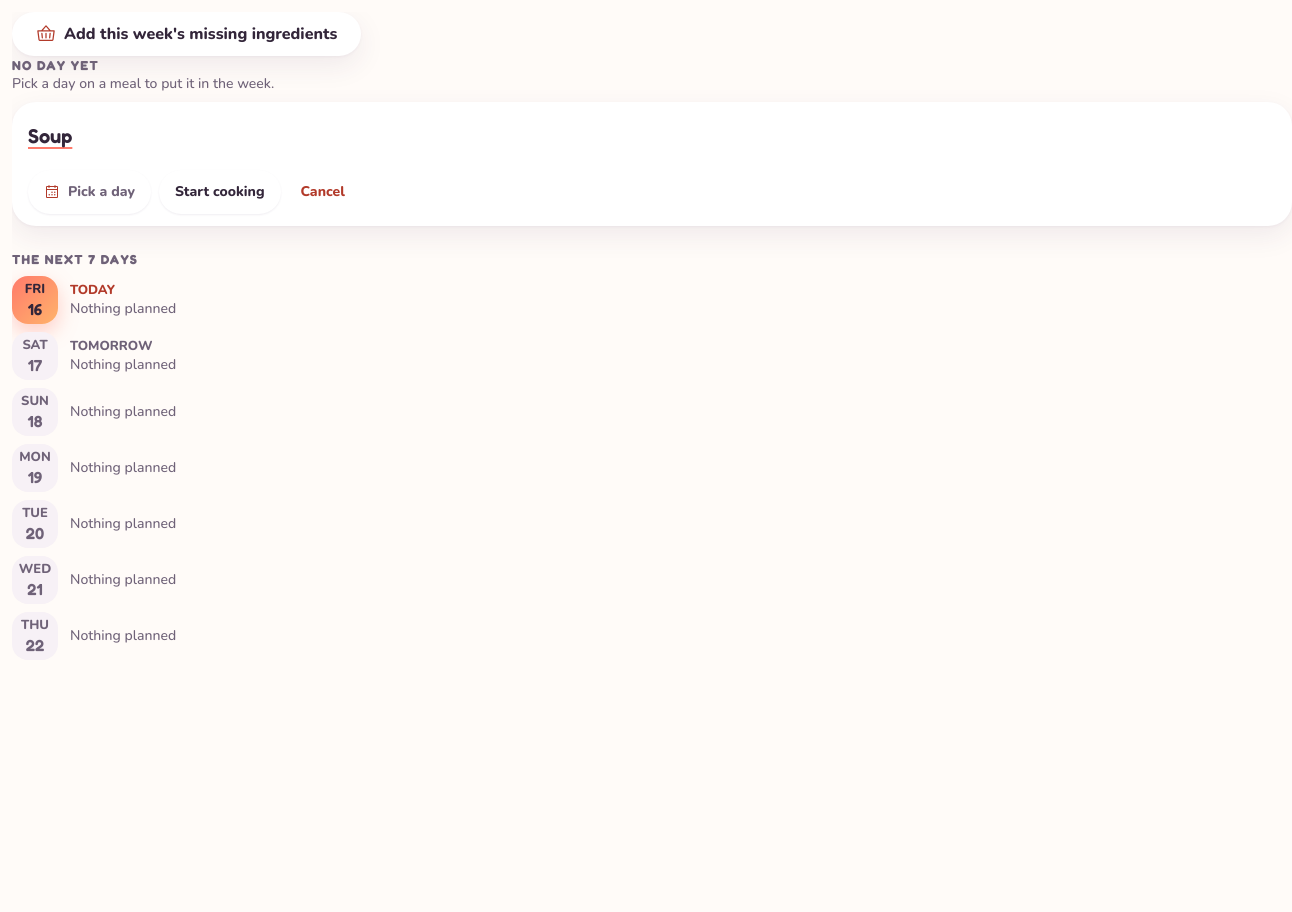
Test case: day control › offers only the plan window (yesterday to 3 weeks ahead) plus No day
Click the button with aria-label "Pick a day for Soup": point(89, 192) [28,170,151,214]
(page scrolled)
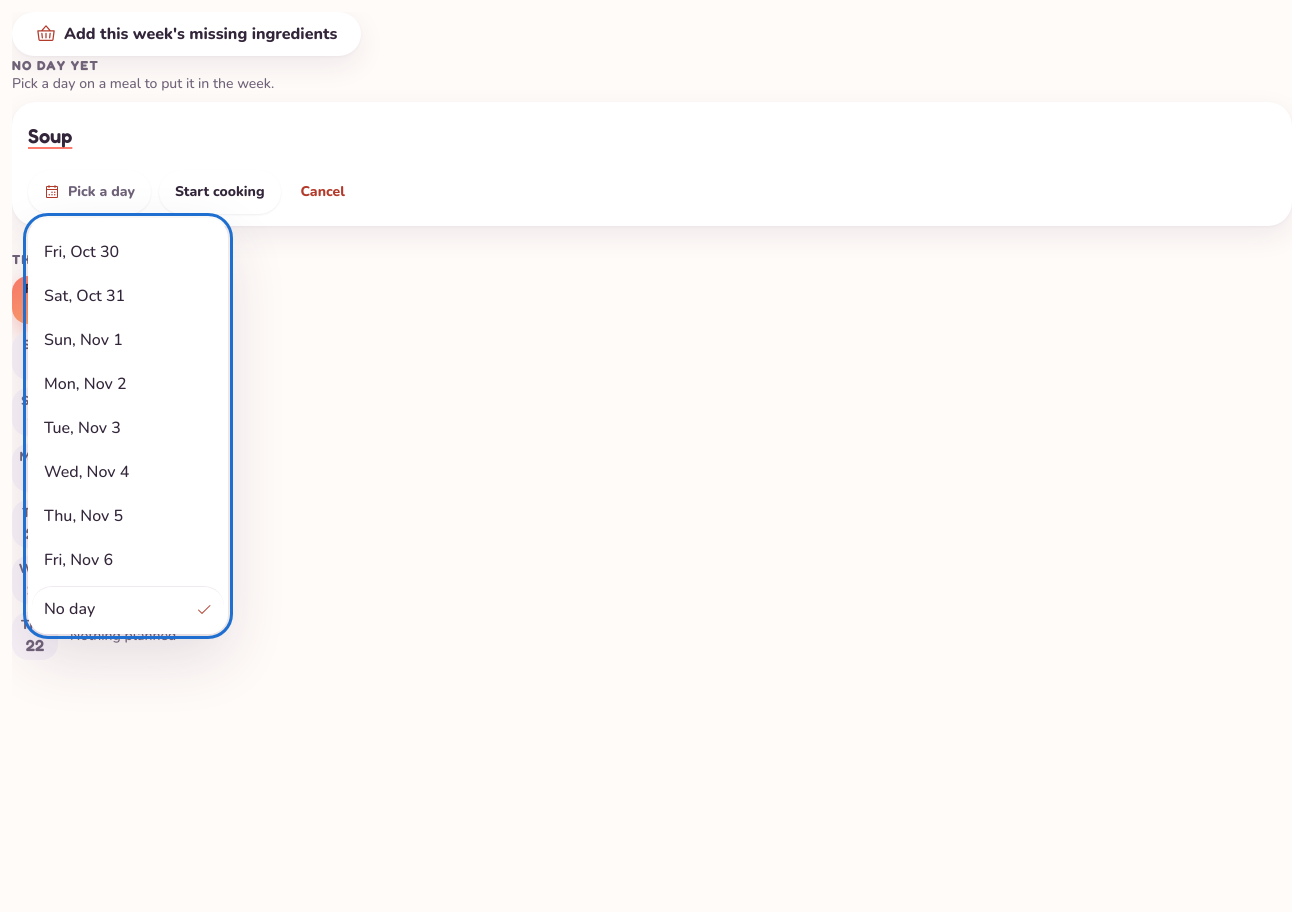
Now the menu item "Fri, Nov 6" is shown, box [44,549,113,571]
Now the menu item "No day" is shown, box [32,586,224,630]
